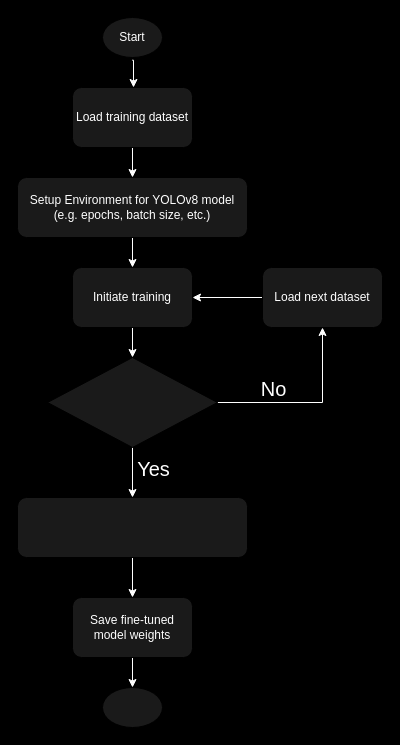
This 400x745 diagram has some shape labels left out. Here are the shapes that lost their labels. From the top down, the centre of each, then its label:
At pixel 132 402: "Satisfied with training performance?".
At pixel 132 527: "Perform bounding box predictions on testing dataset".
At pixel 132 707: "End".
